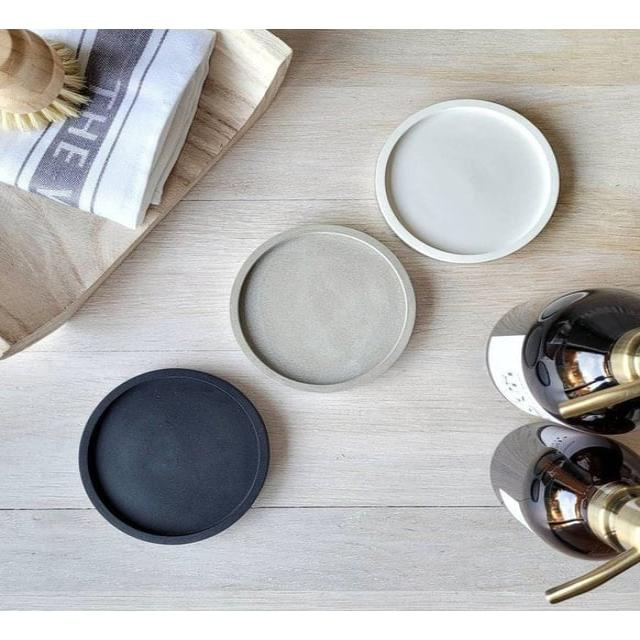-circle-round-: (64, 370, 279, 548), (222, 220, 420, 389), (374, 96, 561, 264)
